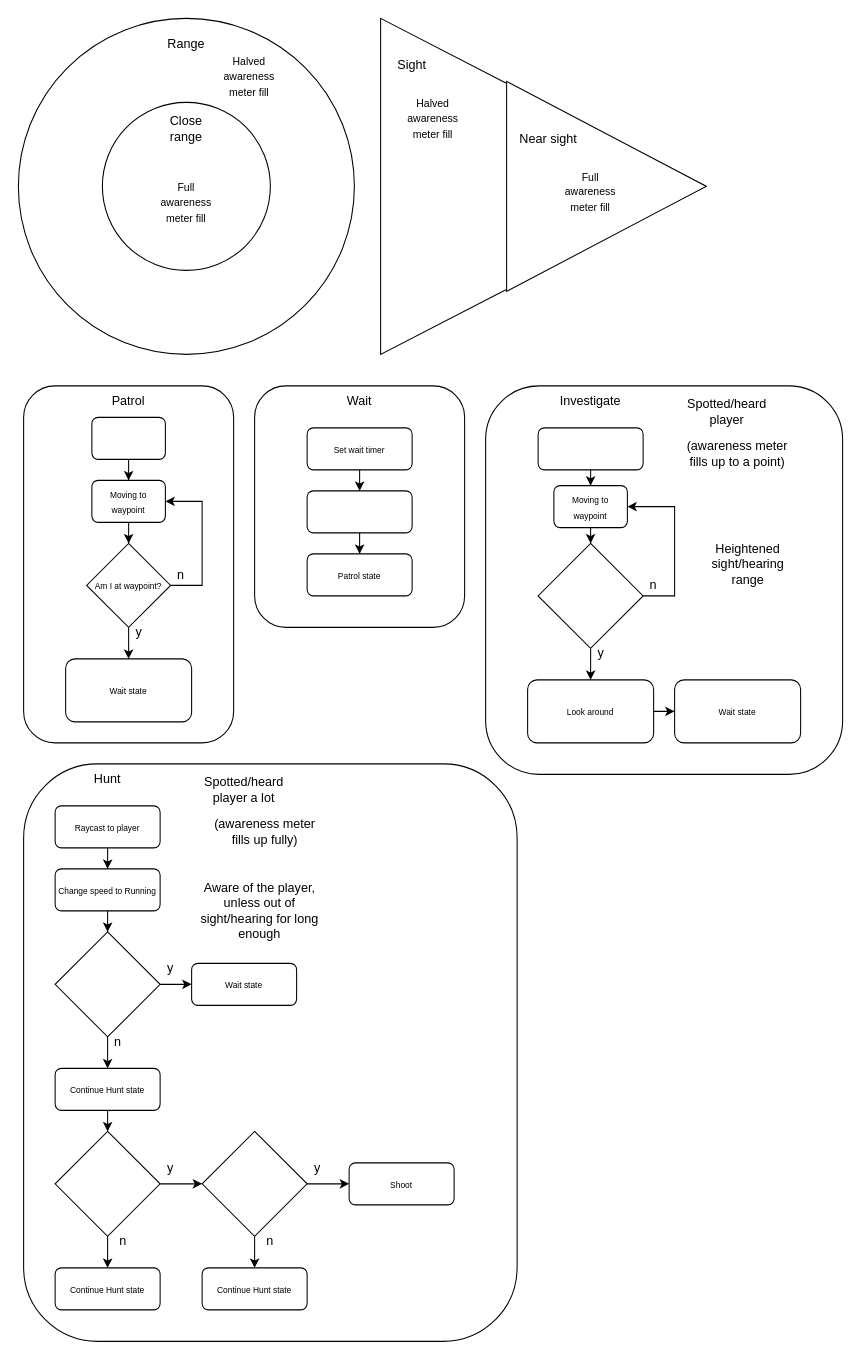
This 861x1360 diagram has some shape labels left out. The shapes that lost their labels are listed below. From the top down, each one's centre as x and y in pixels, then its label:
At point 128,437: "Get next waypoint".
At point 590,448: "Set last known player location as waypoint".
At point 359,511: "Wait timer finishes".
At point 590,595: "Within certain distance of waypoint?".
At point 107,984: "Enough time passed since last spotting player?".
At point 107,1183: "Player in sight?".
At point 254,1183: "Close enough?".
